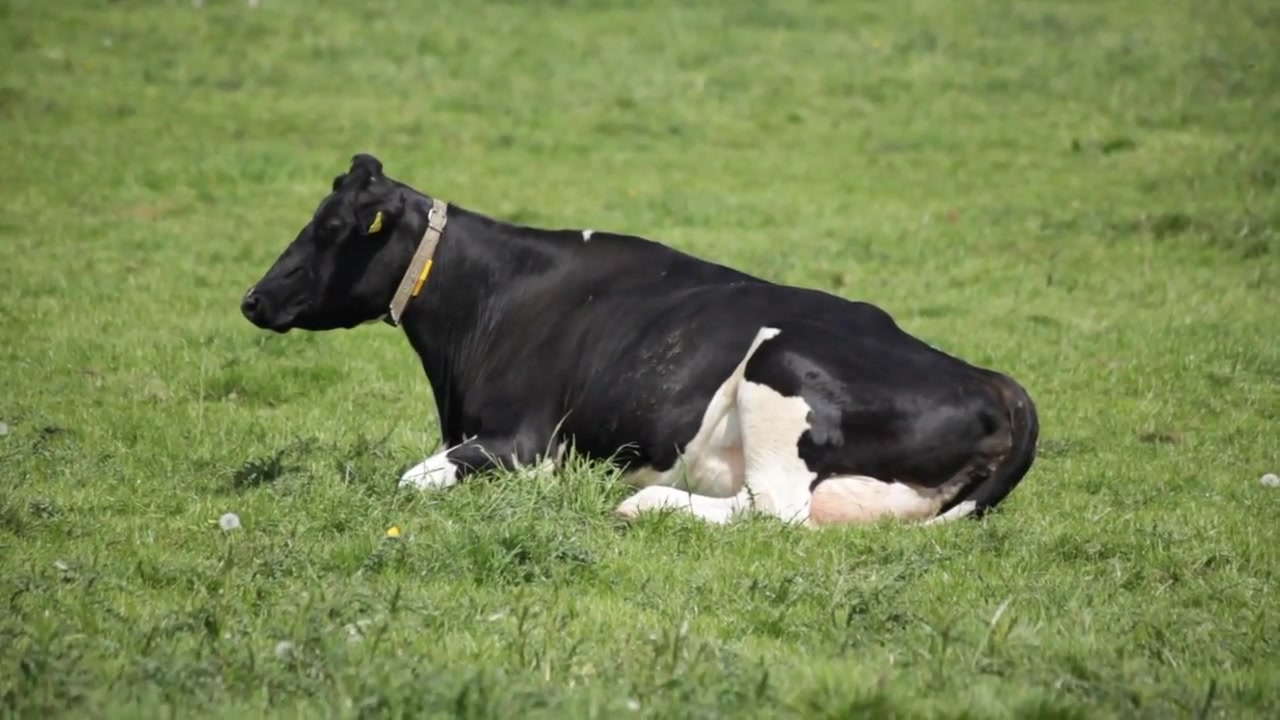cow: (233, 147, 1043, 531)
